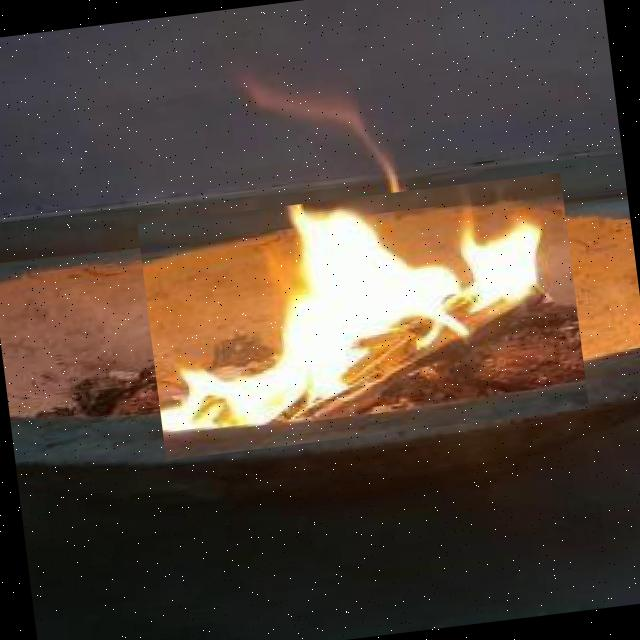fire: (137, 172, 589, 460)
